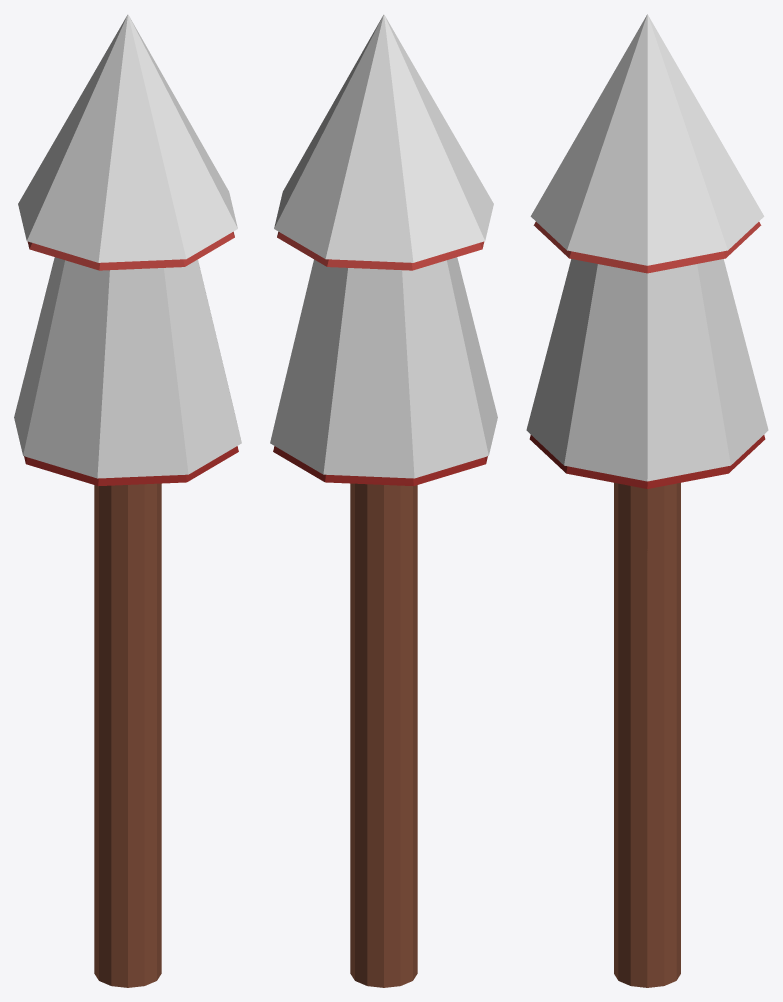
Rendered from Tree_21_winter_gradient_red.fbx.
The picture shows the model from 3 angles, left to right: view 1: azimuth 30°, elevation 25°; view 2: azimuth 150°, elevation 25°; view 3: azimuth 270°, elevation 25°; orthographic projection.
Parts seen in each view (by area): view 1: Tree_21_winter_gradient_red; view 2: Tree_21_winter_gradient_red; view 3: Tree_21_winter_gradient_red.
Boxes of the visible parts, left/top/right/bottom form: Tree_21_winter_gradient_red: left=14, top=14, right=241, bottom=987; Tree_21_winter_gradient_red: left=270, top=14, right=497, bottom=987; Tree_21_winter_gradient_red: left=526, top=14, right=768, bottom=987.
Bounding box in the file's own units: 80.03 × 350 × 80.03.
